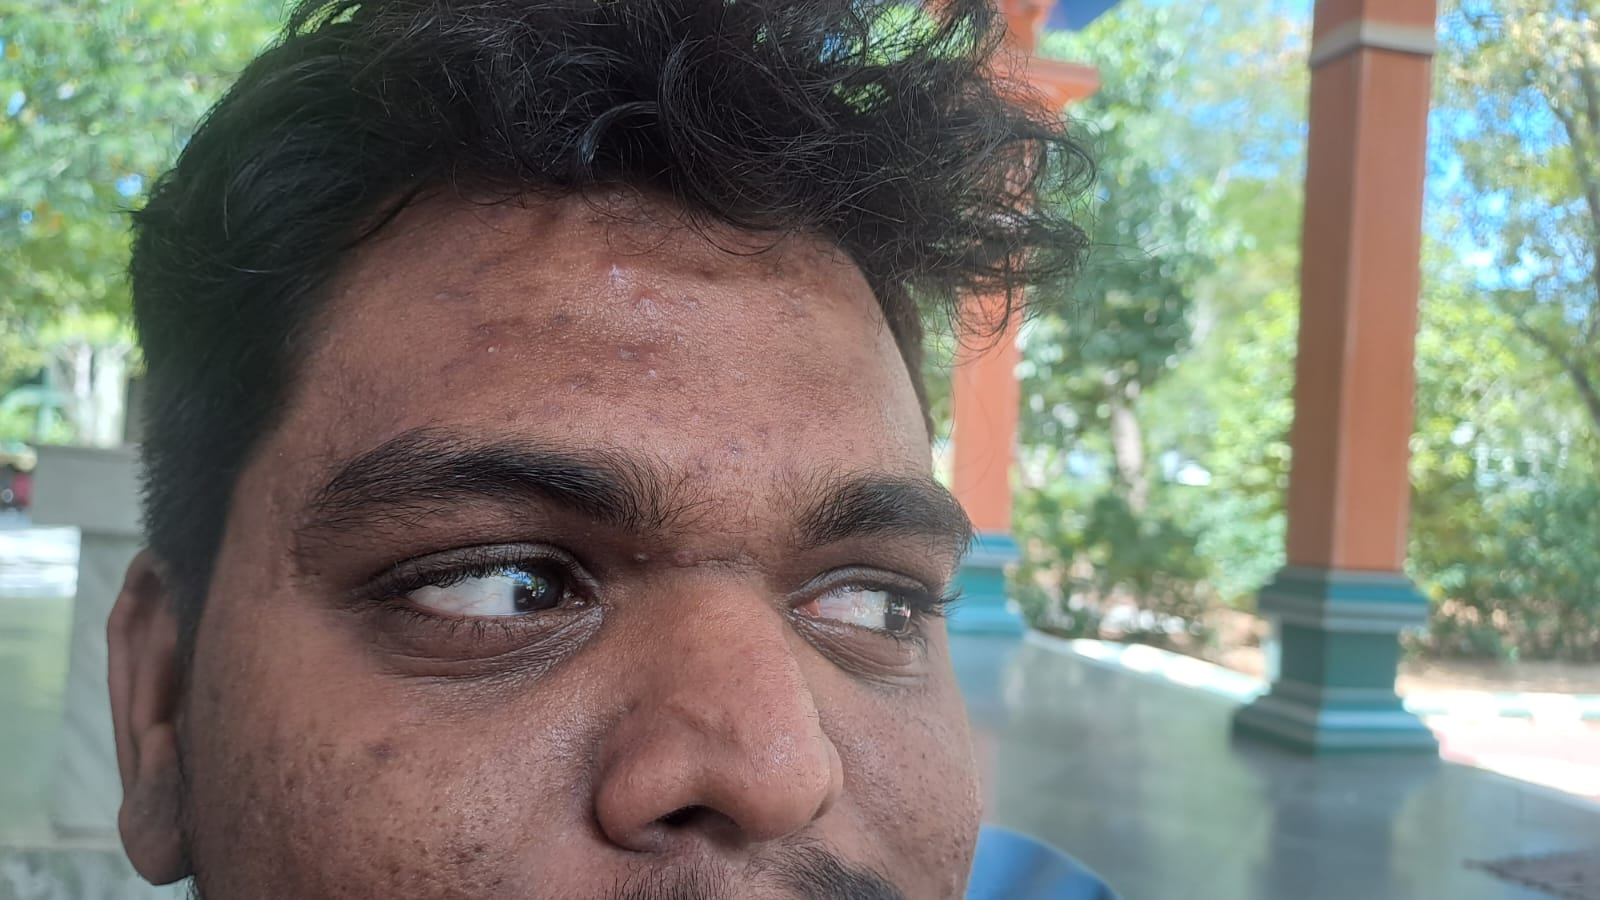EYE LEFT: (229, 403, 693, 718), (729, 405, 1063, 726)
